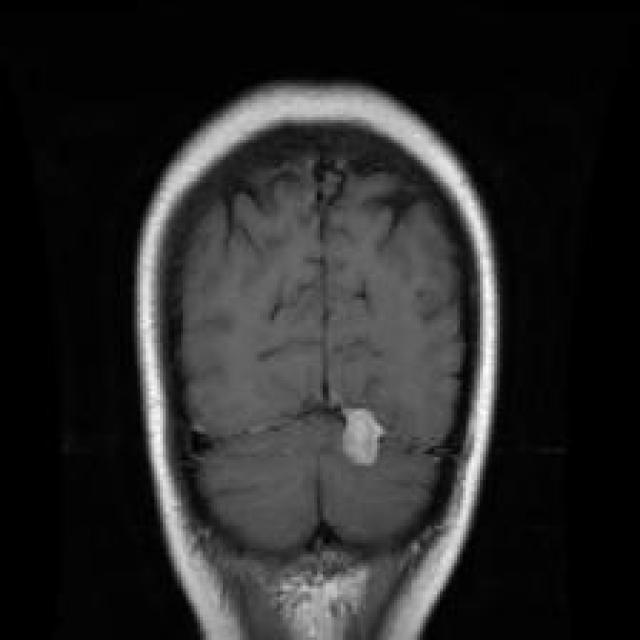meningioma_tumor: (326, 389, 404, 484)
